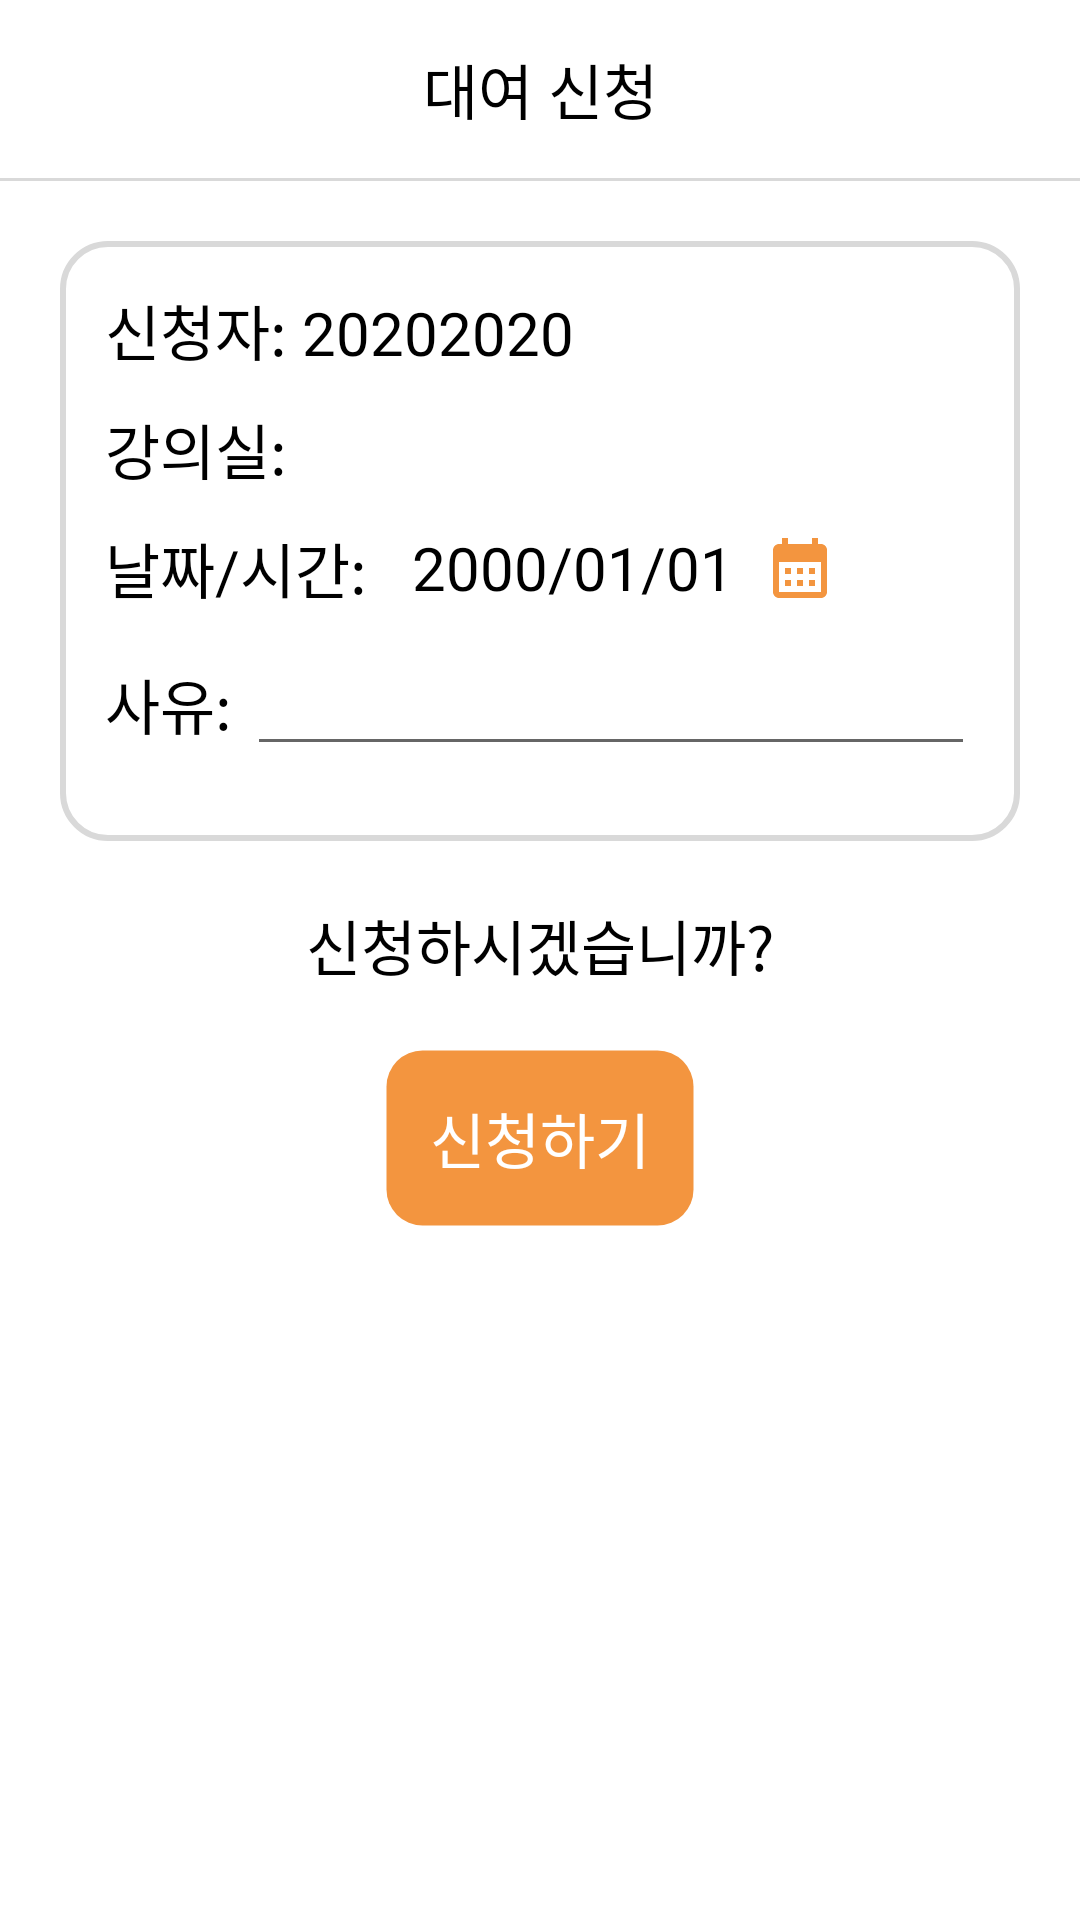

Icon bounding boxes for this 1080 x 1920 phone screenshot, format (x1, y1, x2, y2):
calendar month: (773, 538, 827, 598)
